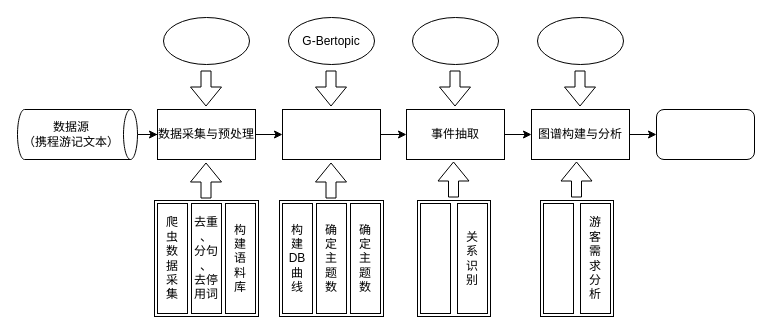
Image size: 772x334. Some labels were removed from this diagram. Each missing label, with the box of its shape:
Scapyl框架 NLP: (162, 16, 250, 64)
VIS库: (536, 16, 624, 64)
整 体 分 析: (542, 202, 574, 314)
文本聚类: (282, 108, 380, 160)
旅行建议: (656, 108, 754, 160)
正则表达式: (412, 16, 498, 64)
规 则 模 板: (420, 202, 450, 314)
